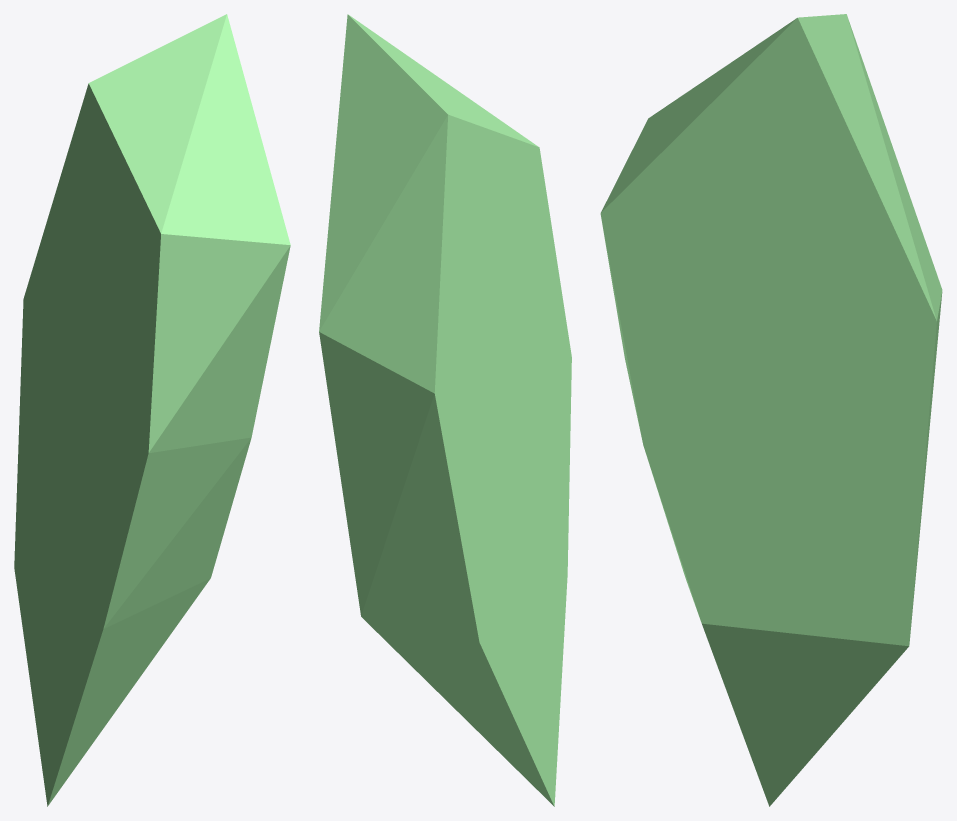
Rendered from UMIRobot_UMIRobot_link_5_convex_coll_37.dae.
3 views of the same model, side by side, from view 1: azimuth 30°, elevation 25°; view 2: azimuth 150°, elevation 25°; view 3: azimuth 270°, elevation 25° (orthographic). The views are drawn at different scales.
Visible parts, largest first — view 1: node; view 2: node; view 3: node.
Part boxes in pixels (x1=…): node: x1=14, y1=14, x2=290, y2=806; node: x1=319, y1=14, x2=571, y2=806; node: x1=600, y1=14, x2=942, y2=806.
Bounding box in the file's own units: 0.00325 × 0.012 × 0.00412.
